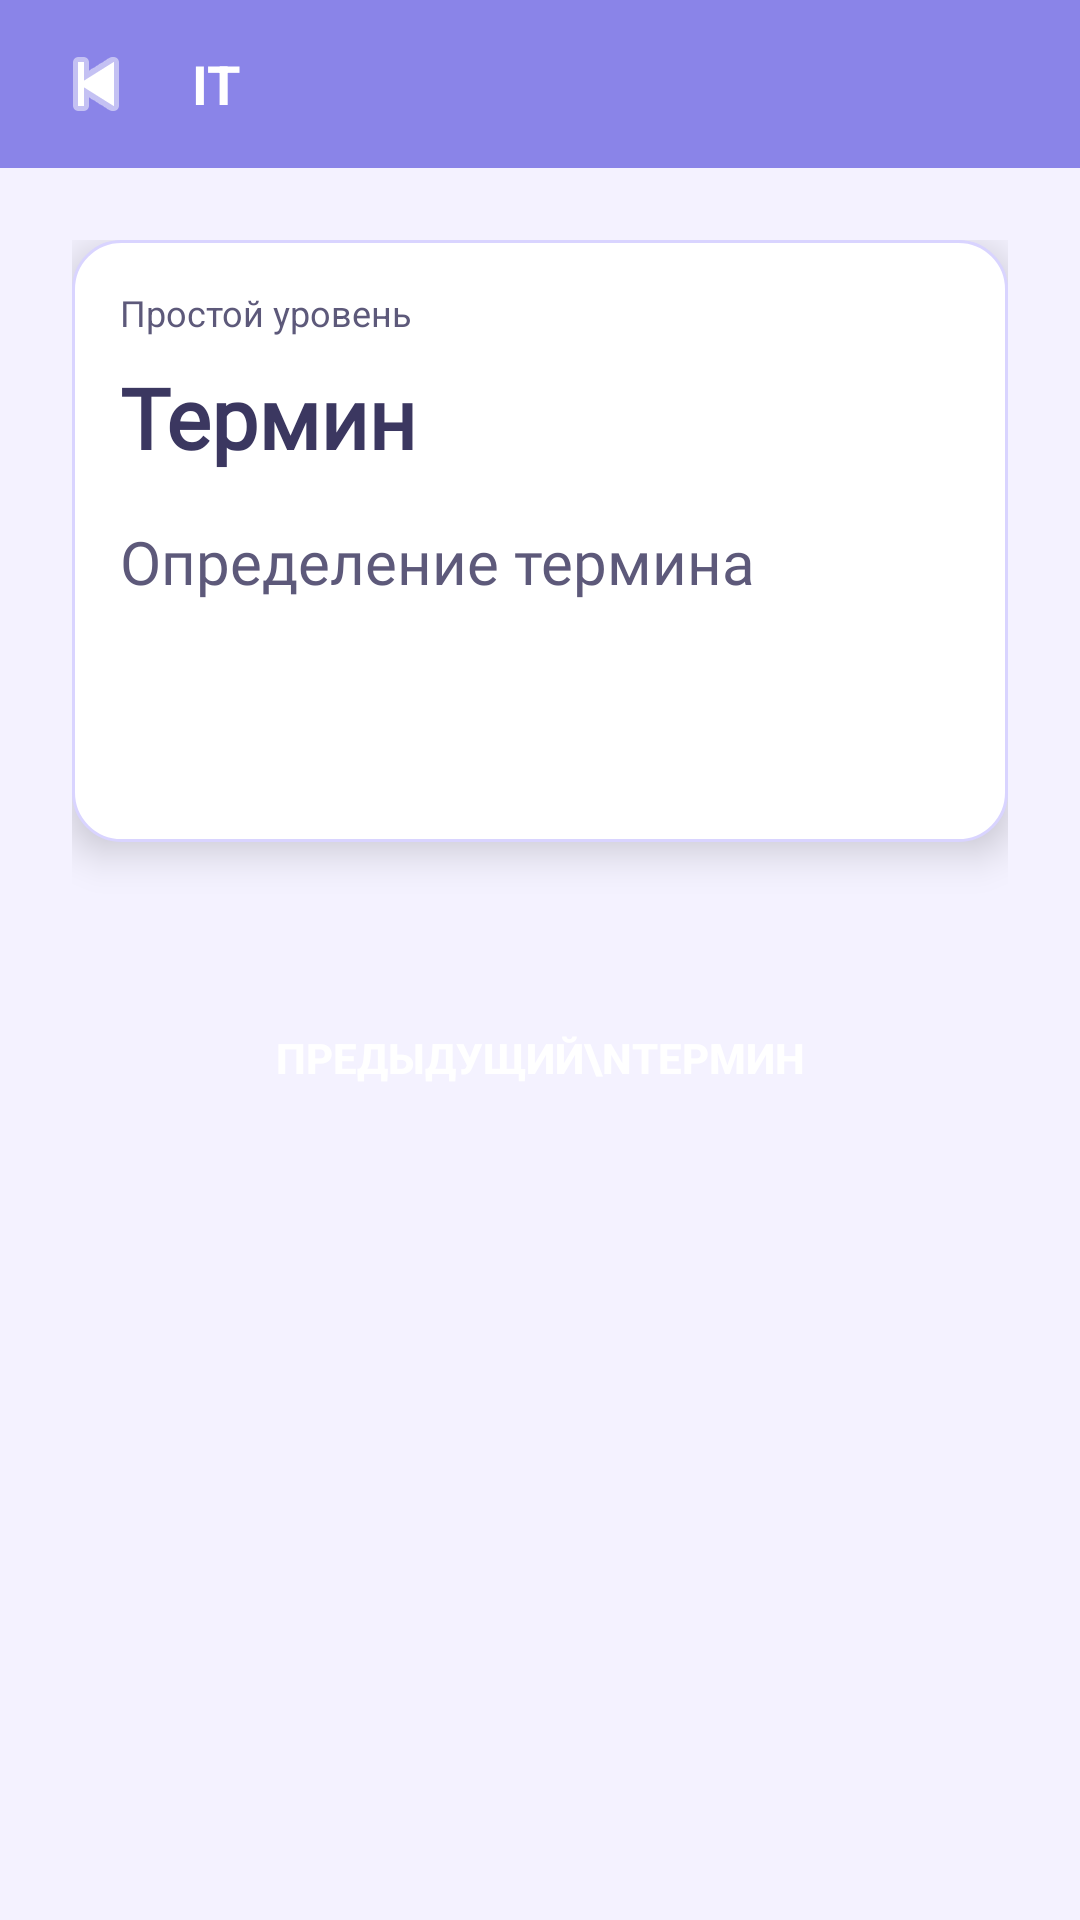

Locate icon controls on the screen. Image size 1080w x 1920h, boxes as (x1, y1, x2, y2).
previous: (73, 57, 119, 111)
